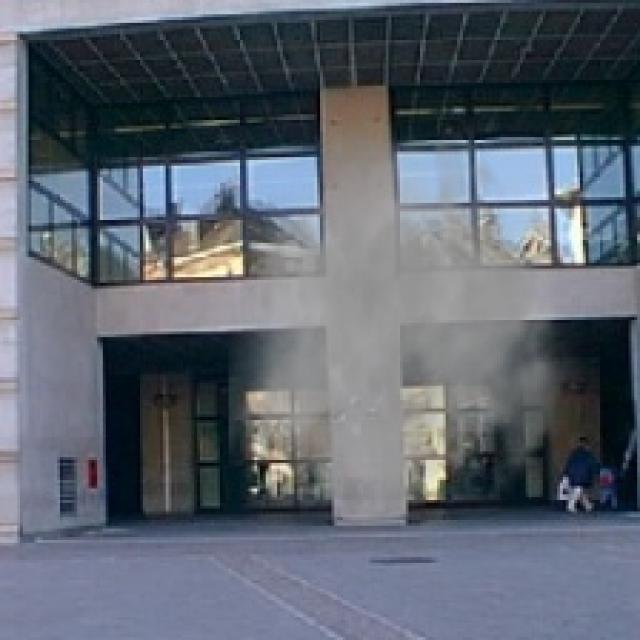smoke: (228, 123, 592, 534)
